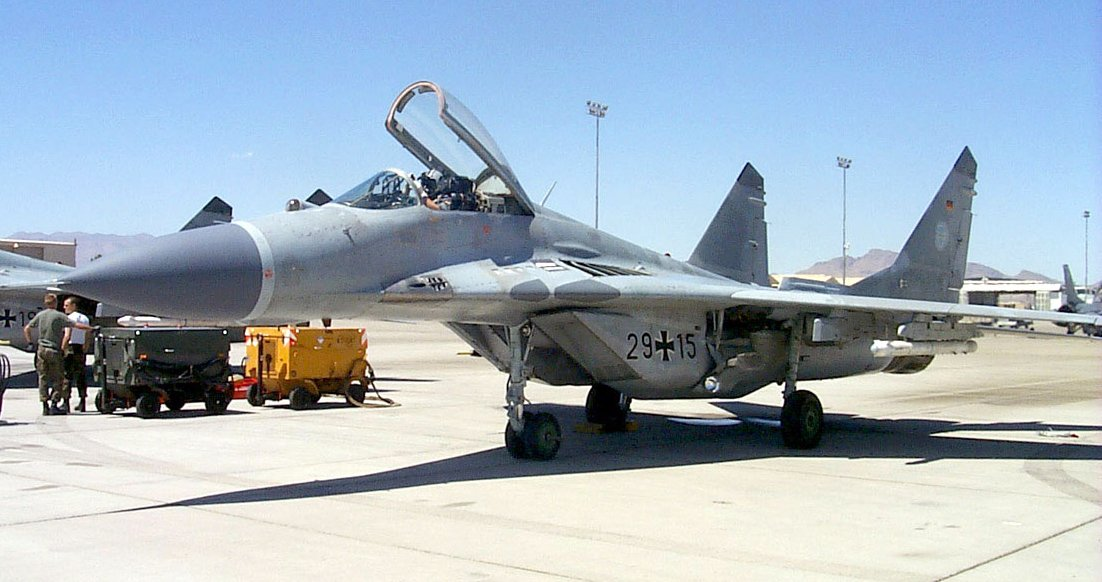Mig-29: (95, 91, 1044, 524)
